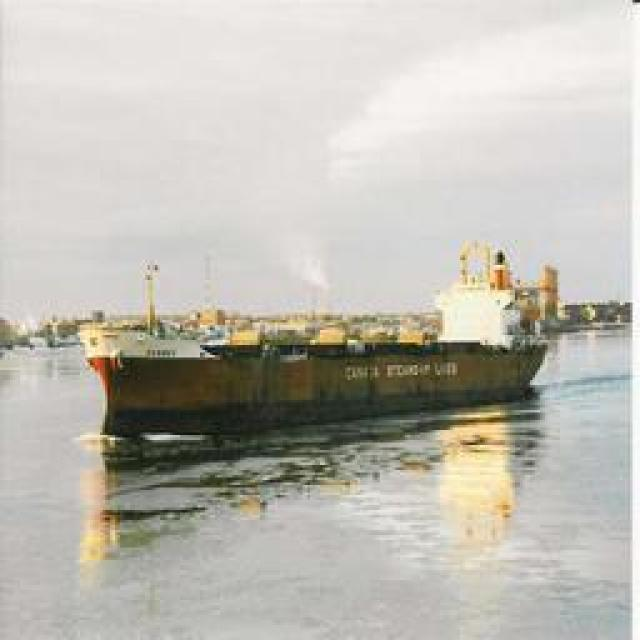CIV_Ship: (88, 280, 552, 435)
